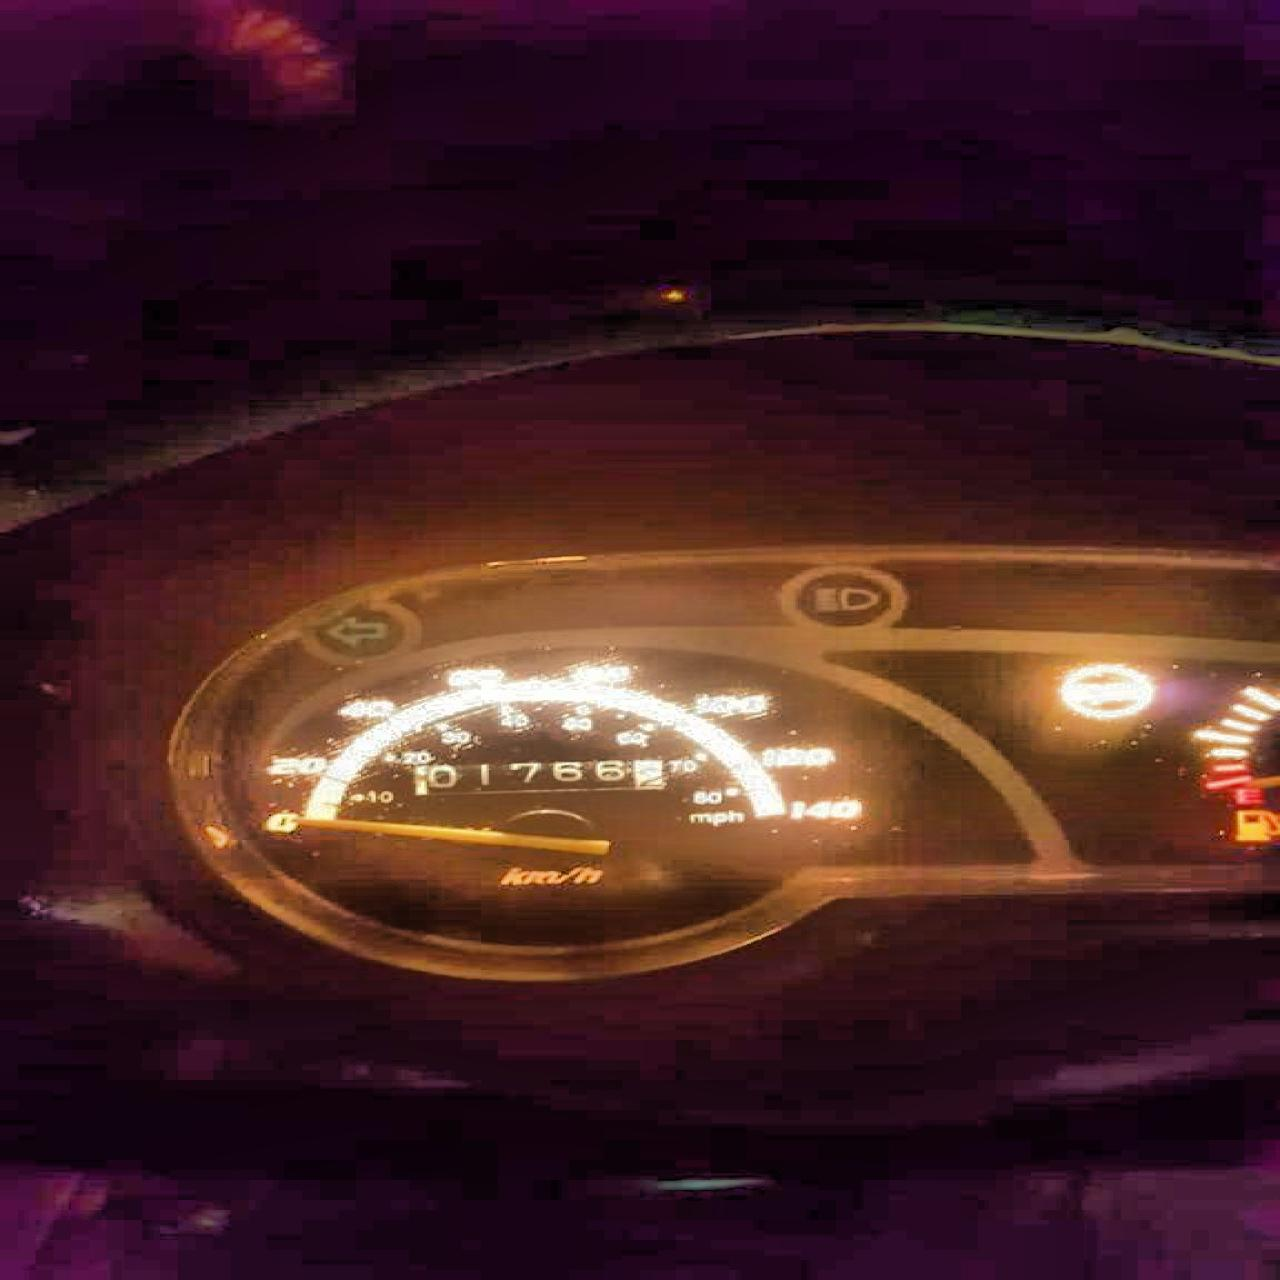0: (427, 762, 461, 788)
1: (469, 757, 493, 789)
2: (638, 765, 667, 790)
6: (593, 760, 628, 784), (551, 758, 583, 783)
7: (504, 760, 543, 784)
odometer: (409, 756, 669, 794)
